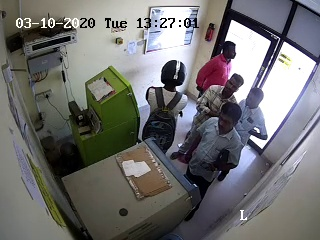helmet: (159, 59, 190, 91)
